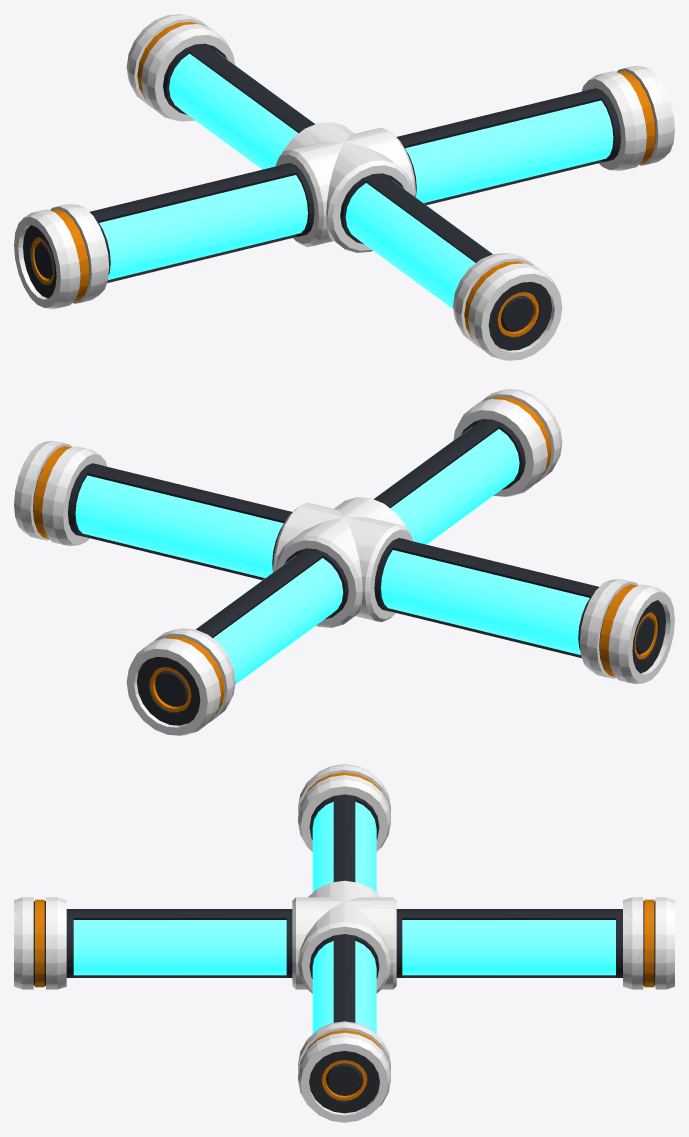
File: SM_Cable_Small_Cross.fbx
The picture shows the model from 3 angles, top to bottom: view 1: azimuth 30°, elevation 25°; view 2: azimuth 150°, elevation 25°; view 3: azimuth 270°, elevation 25°; orthographic projection. The views are drawn at different scales.
Parts seen in each view (by area): view 1: SM_Cable_Small_Cross; view 2: SM_Cable_Small_Cross; view 3: SM_Cable_Small_Cross.
Part boxes in pixels (x1,y1,x2,y2): SM_Cable_Small_Cross: (14,14,674,360); SM_Cable_Small_Cross: (14,389,674,735); SM_Cable_Small_Cross: (14,764,674,1122).
Size of the model in its own units: 99.96 by 14.09 by 99.96.
